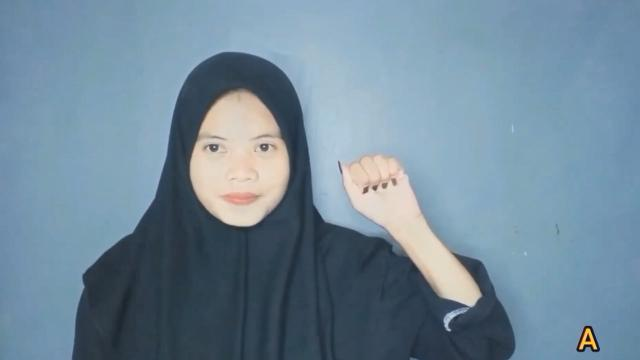A: (336, 152, 419, 228)
